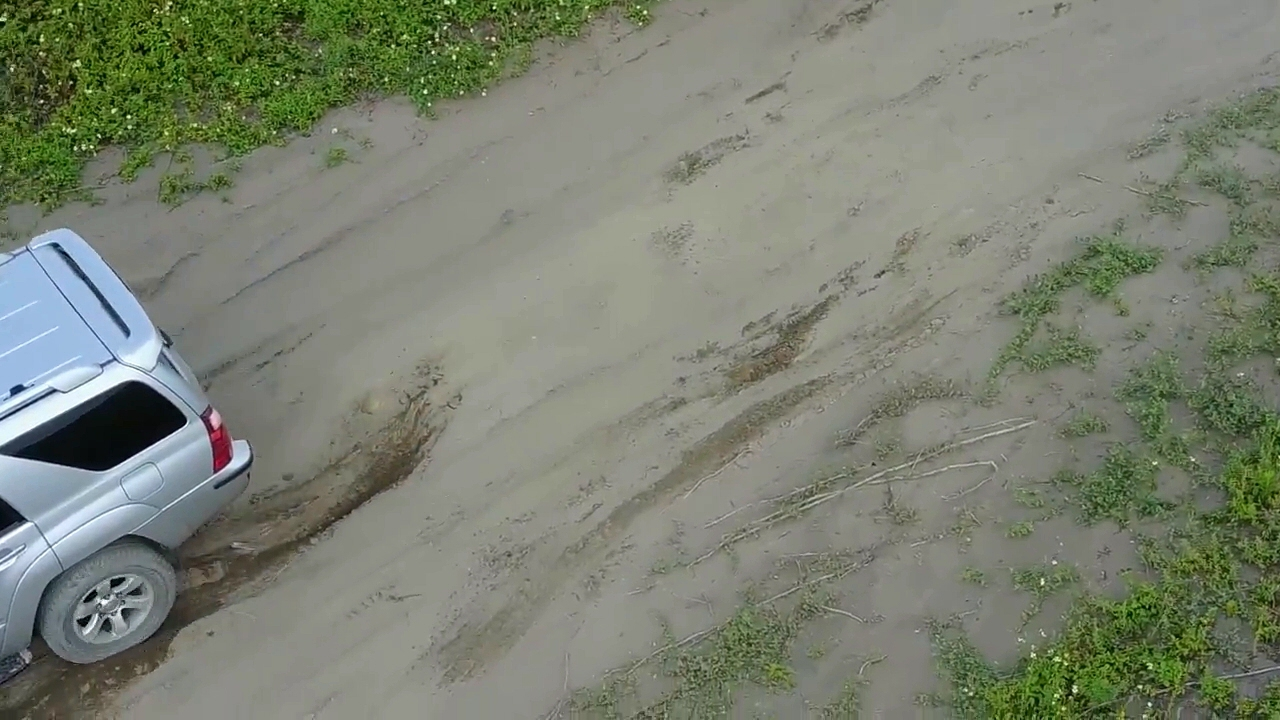araba: (1, 223, 254, 698)
